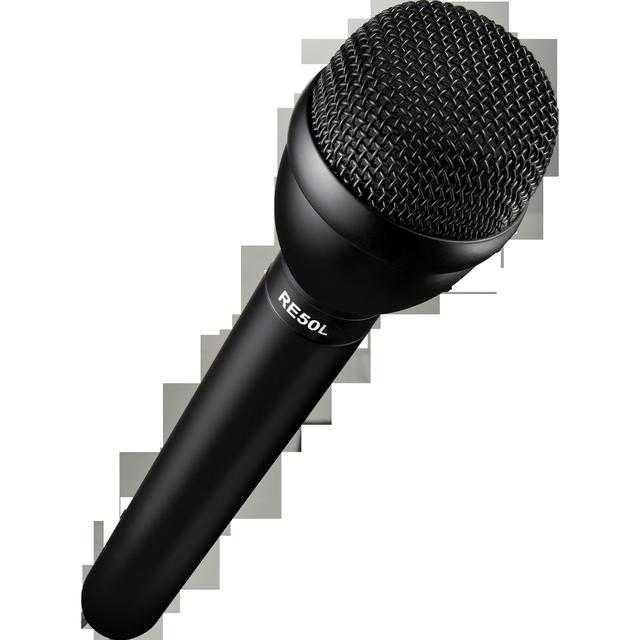microphone: (87, 6, 550, 634)
